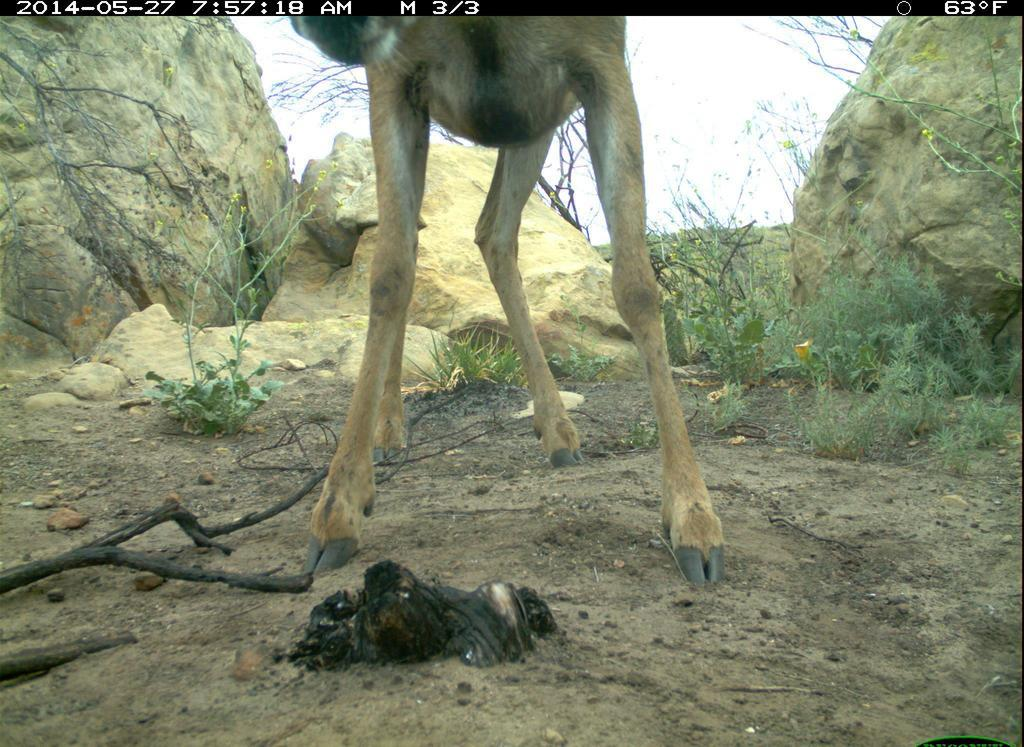deer: (269, 18, 748, 596)
